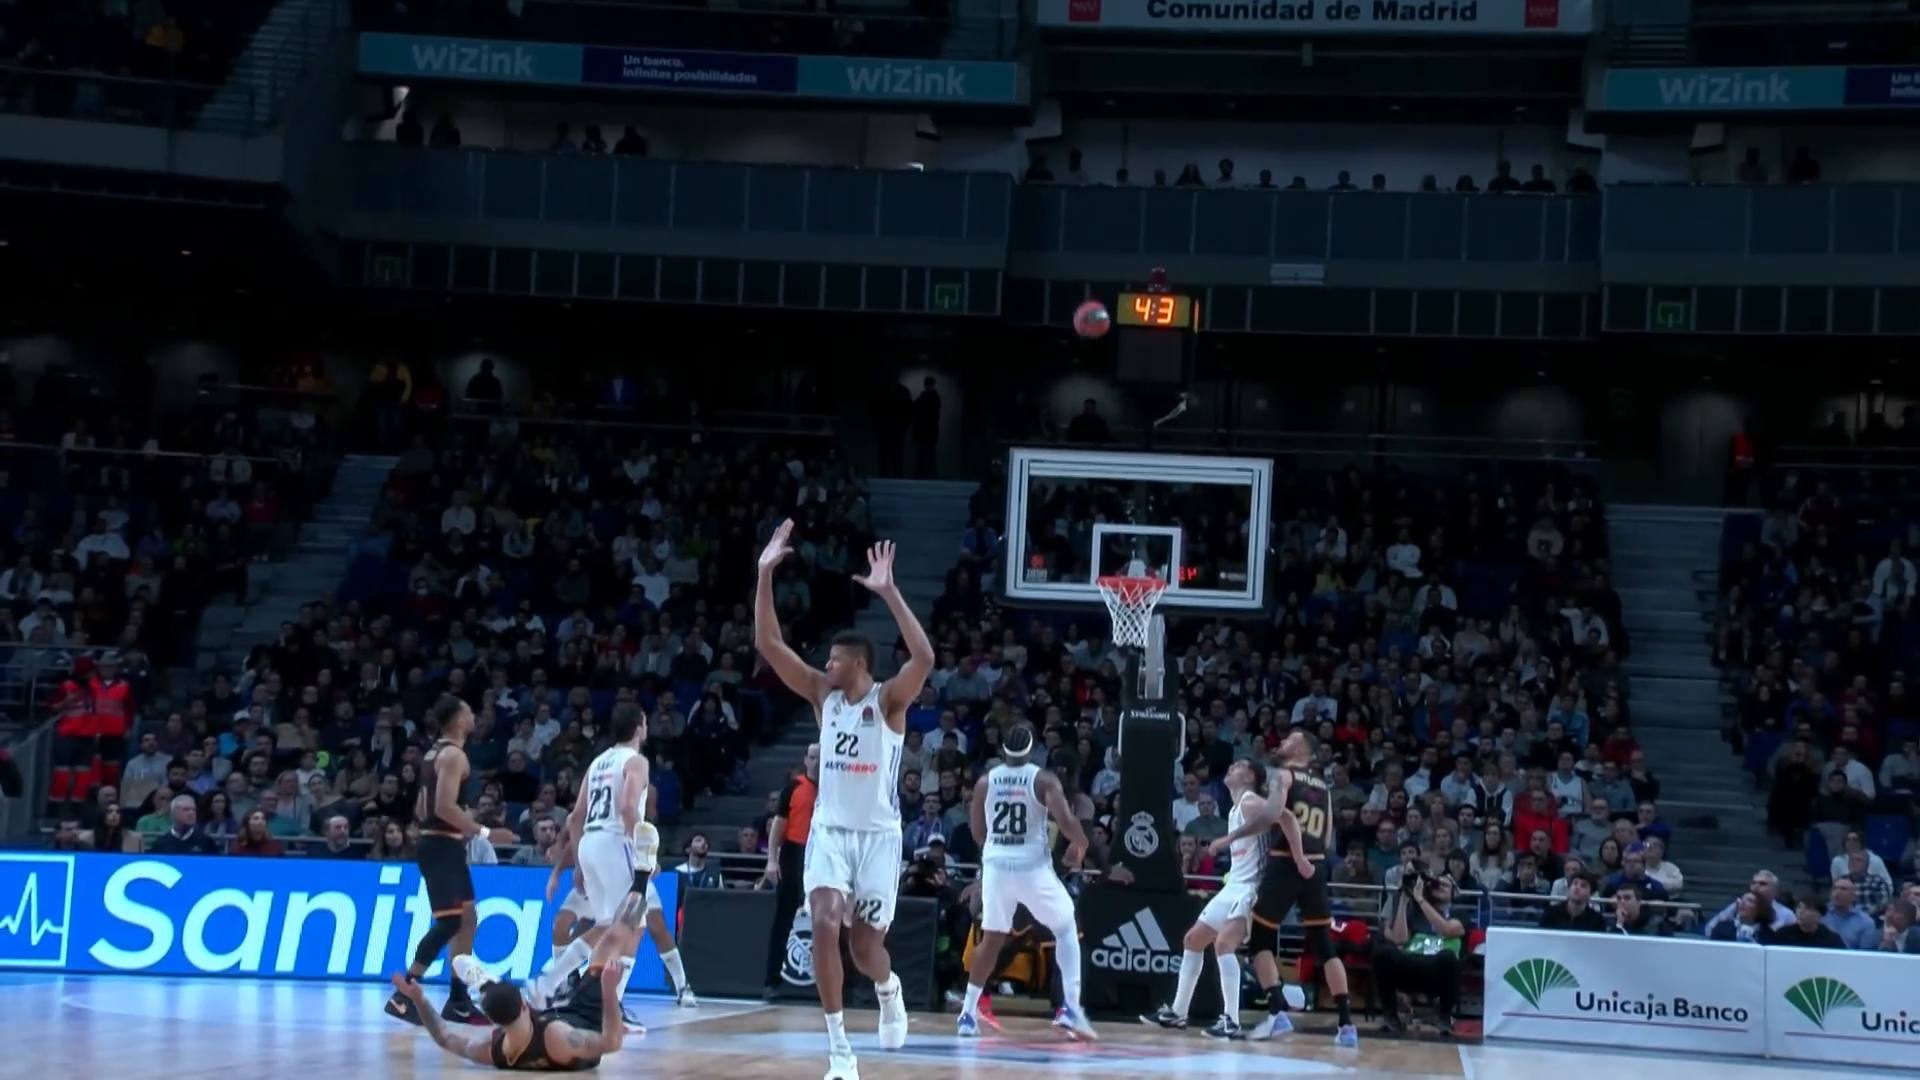ball: (1068, 295, 1117, 344)
net: (1095, 571, 1170, 654)
